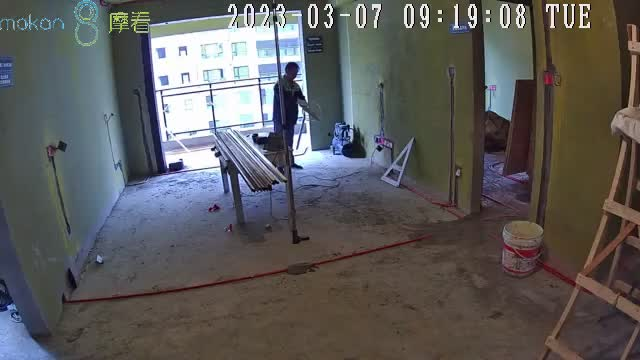people: (273, 61, 310, 169)
window: (147, 11, 304, 138)
